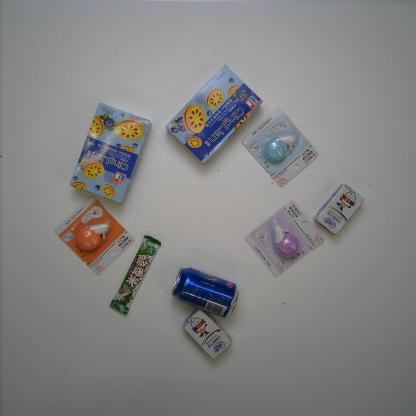Chocolate: (109, 235, 161, 315)
Dessert: (165, 65, 264, 163), (69, 104, 152, 203)
Drink: (171, 266, 239, 318)
Milk: (314, 184, 366, 236), (181, 307, 232, 360)
Stationery: (55, 196, 135, 276), (244, 200, 326, 278), (242, 109, 318, 188)
